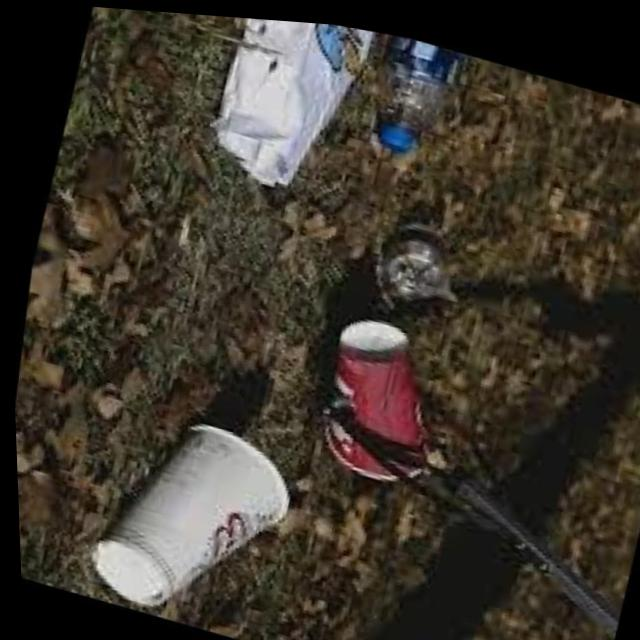clothes: (350, 196, 489, 327)
leaf: (346, 23, 474, 187)
trash: (63, 400, 330, 640), (187, 11, 378, 219), (280, 281, 465, 494)
